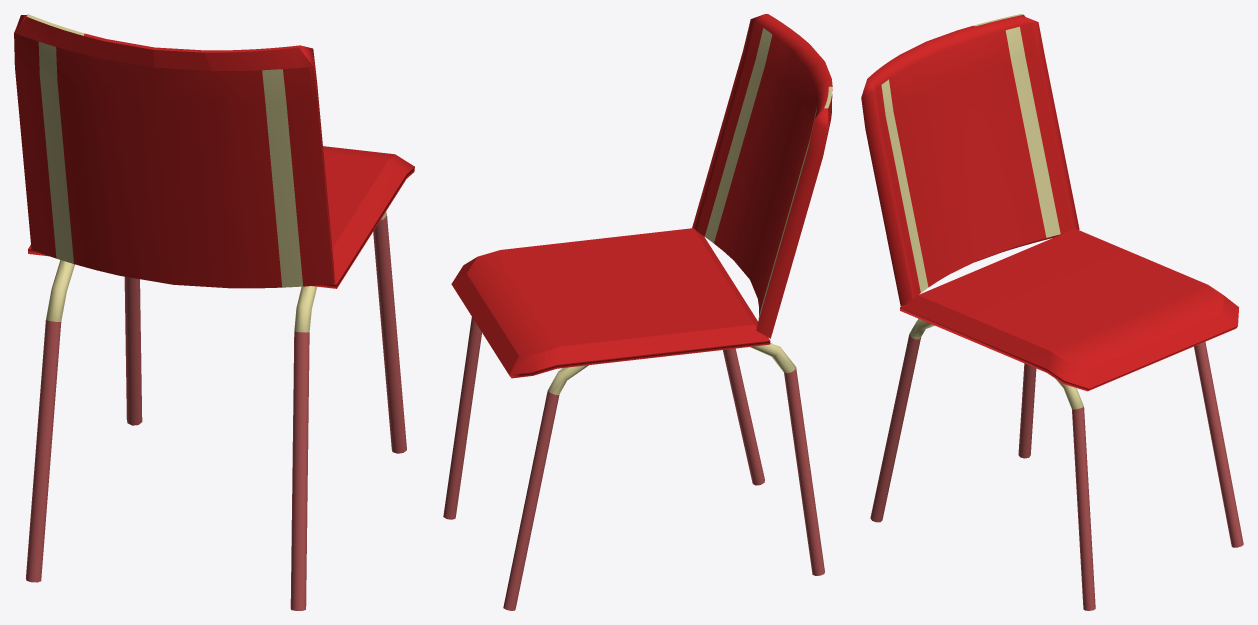
File: ChairFBX.fbx
3 renders of one model, left to right at view 1: azimuth 30°, elevation 25°; view 2: azimuth 150°, elevation 25°; view 3: azimuth 270°, elevation 25°, orthographic. The views are drawn at different scales.
Parts seen in each view (by area): view 1: Chairs; view 2: Chairs; view 3: Chairs.
Boxes of the visible parts, <box> form: Chairs: <box>14,14,414,610</box>; Chairs: <box>443,14,832,610</box>; Chairs: <box>861,14,1243,610</box>.
Bounding box in the file's own units: 91.93 × 116 × 91.62.
